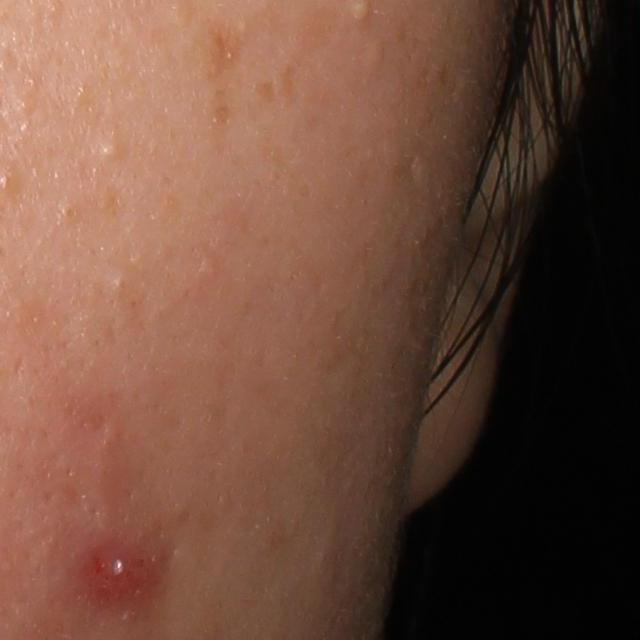atrophic_scar: (206, 29, 240, 85)
comedo: (96, 141, 124, 166), (108, 272, 134, 296), (60, 205, 79, 224)
